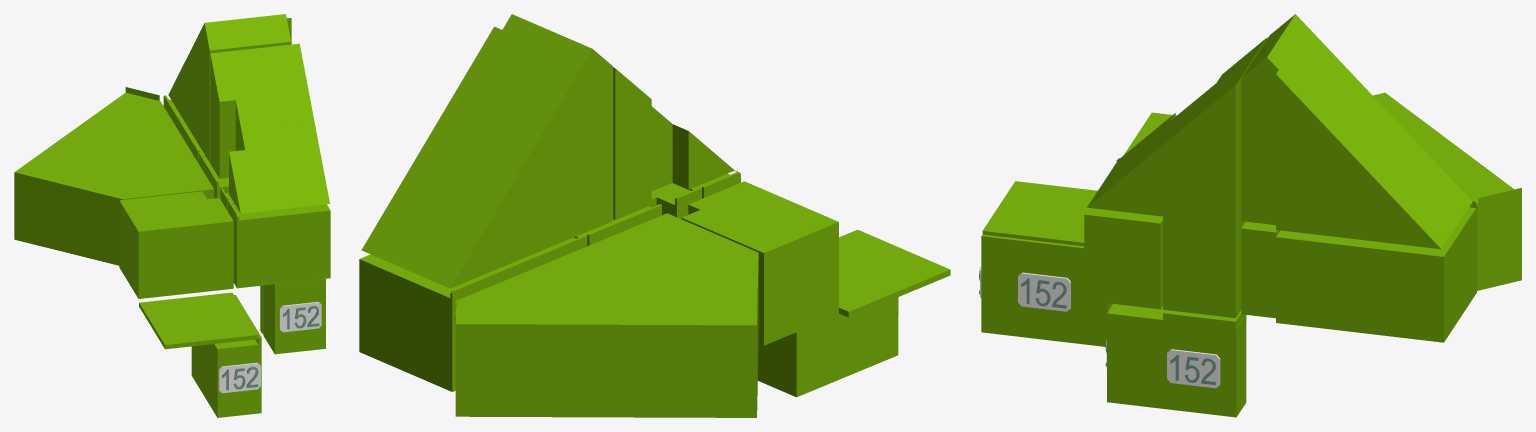
3 renders of one model, left to right at view 1: azimuth 30°, elevation 25°; view 2: azimuth 150°, elevation 25°; view 3: azimuth 270°, elevation 25°, orthographic. The views are drawn at different scales.
Parts seen in each view (by area): view 1: g_5, g_3, g_10, g_9, g_2, g_13, g_1, g_0, g_4, g_25, g_21, g_6 (+1 smaller); view 2: g_5, g_2, g_10, g_6, g_3, g_1, g_13, g_7, g_9; view 3: g_2, g_6, g_1, g_4, g_12, g_5, g_9, g_11, g_3, g_13, g_0, g_8 (+3 smaller).
Part boxes in pixels (box(x1,y1,x2,y2)): g_5: box(14, 87, 213, 265); g_3: box(210, 47, 329, 214); g_10: box(119, 191, 233, 298); g_9: box(227, 199, 330, 288); g_2: box(168, 14, 291, 162); g_13: box(139, 292, 258, 349); g_1: box(191, 295, 261, 417); g_0: box(263, 278, 325, 354); g_4: box(267, 43, 314, 125); g_25: box(279, 302, 321, 332); g_21: box(218, 362, 260, 393); g_6: box(163, 95, 205, 163); g_5: box(455, 213, 758, 417); g_2: box(361, 14, 613, 288); g_10: box(681, 181, 838, 345); g_6: box(359, 235, 587, 391); g_3: box(613, 67, 739, 219); g_1: box(758, 297, 898, 397); g_13: box(839, 229, 950, 317); g_7: box(574, 183, 701, 245); g_9: box(673, 172, 740, 198); g_2: box(1241, 14, 1472, 249); g_6: box(1276, 199, 1476, 342); g_1: box(981, 234, 1112, 346); g_4: box(1163, 68, 1246, 225); g_12: box(1146, 306, 1246, 417); g_5: box(1373, 92, 1521, 290); g_9: box(1084, 158, 1162, 309); g_11: box(1163, 217, 1245, 318); g_3: box(1087, 37, 1267, 216); g_13: box(982, 181, 1097, 246); g_0: box(1107, 304, 1152, 406); g_8: box(1241, 221, 1280, 318).
Bounding box in the file's own units: 9.92 × 10.1 × 13.82.
